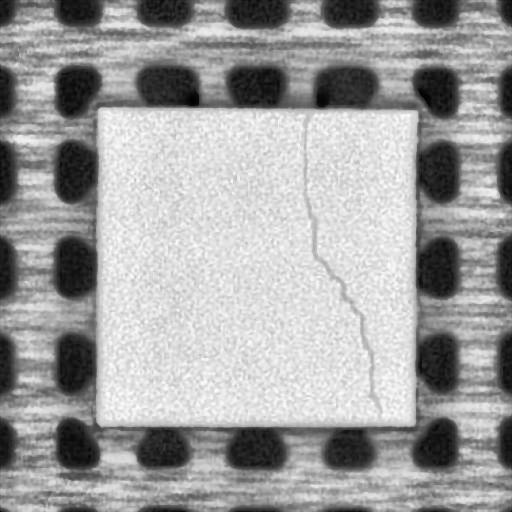DIE_CRACK: (298, 111, 381, 415)
